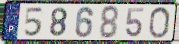5: (23, 6, 44, 37), (125, 7, 145, 38)
6: (74, 5, 95, 39)
8: (98, 5, 120, 40), (49, 7, 68, 38)
O: (147, 6, 172, 39)
